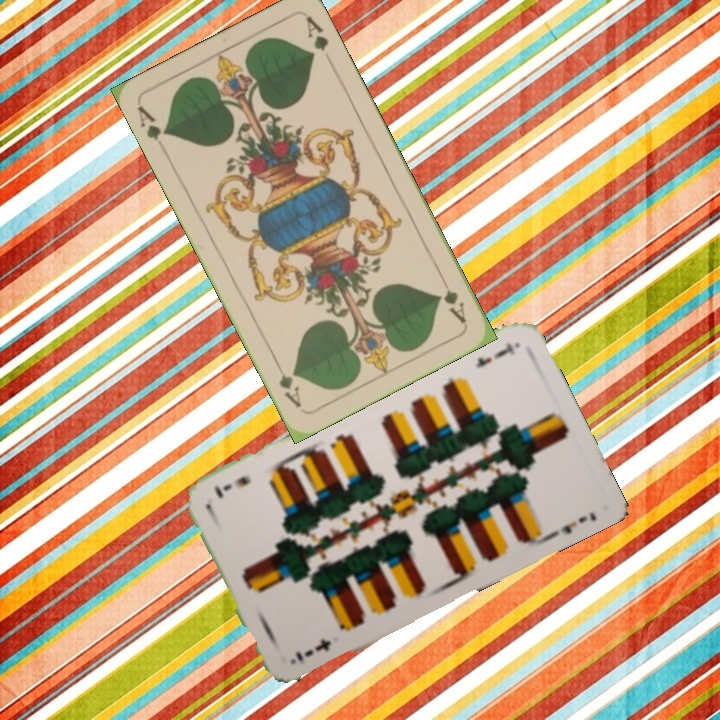E7: (471, 338, 520, 371), (291, 634, 334, 665)
GA: (133, 101, 172, 144), (435, 285, 469, 326)
